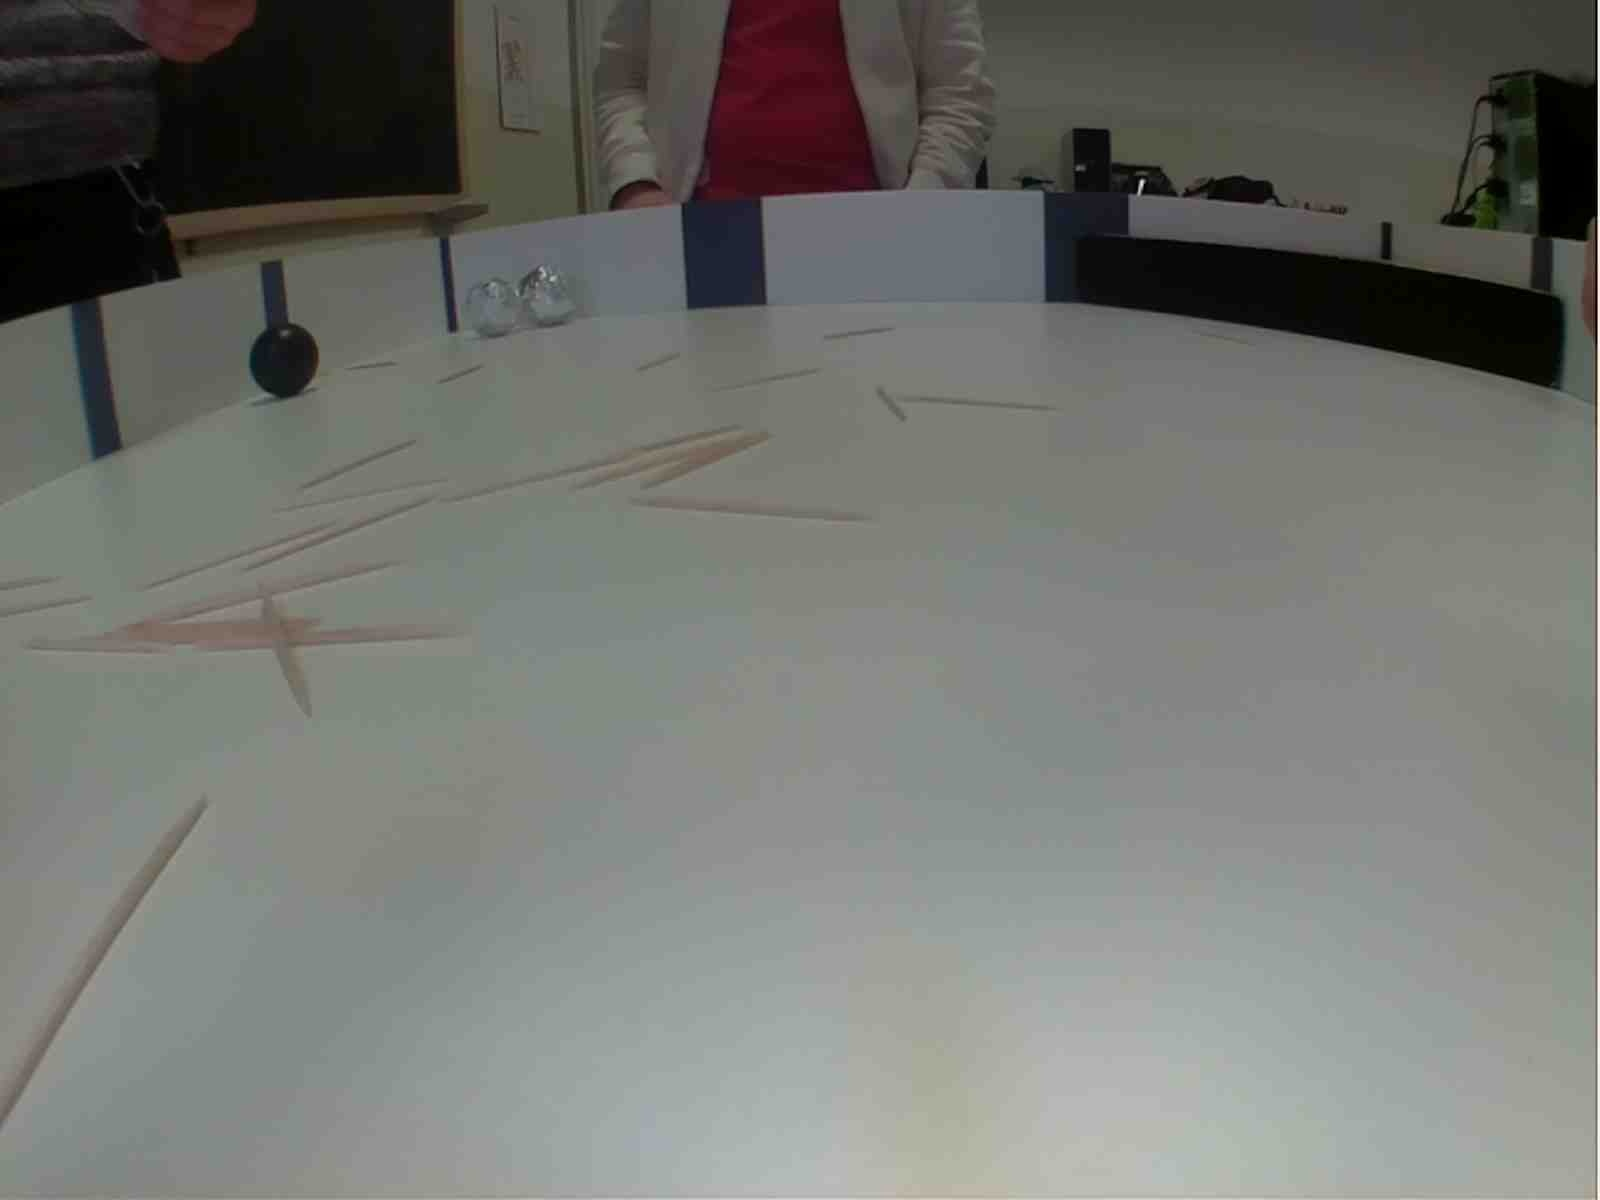bianca: (464, 272, 522, 342), (519, 267, 580, 330)
nera: (249, 324, 321, 400)
